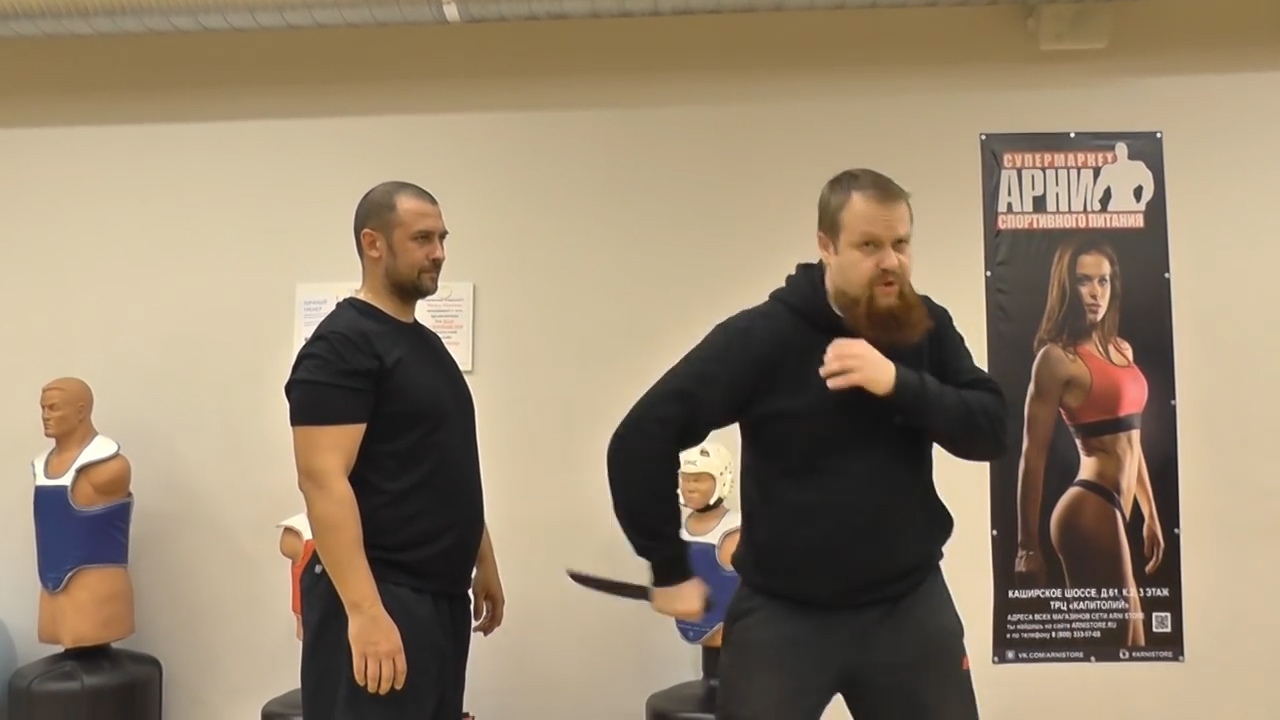knife: (560, 560, 714, 622)
